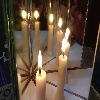fire: (37, 50, 42, 70)
